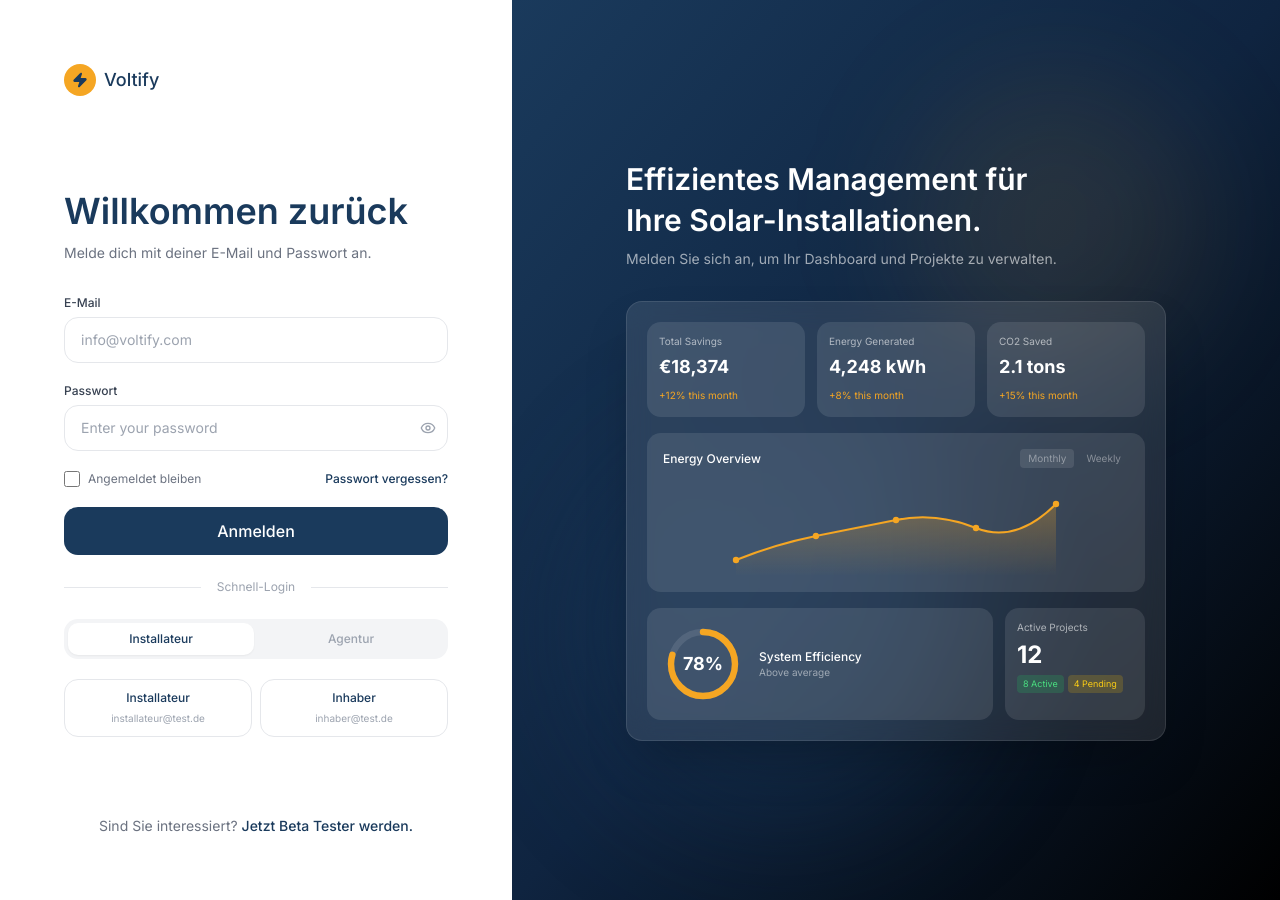
Test: Login › zeigt einen Fehler bei fehlgeschlagenem Login
The image size is (1280, 900).
Type "test@test.de" into the field with placeholder "info@voltify.com" at [256, 340], box [64,317,448,363]
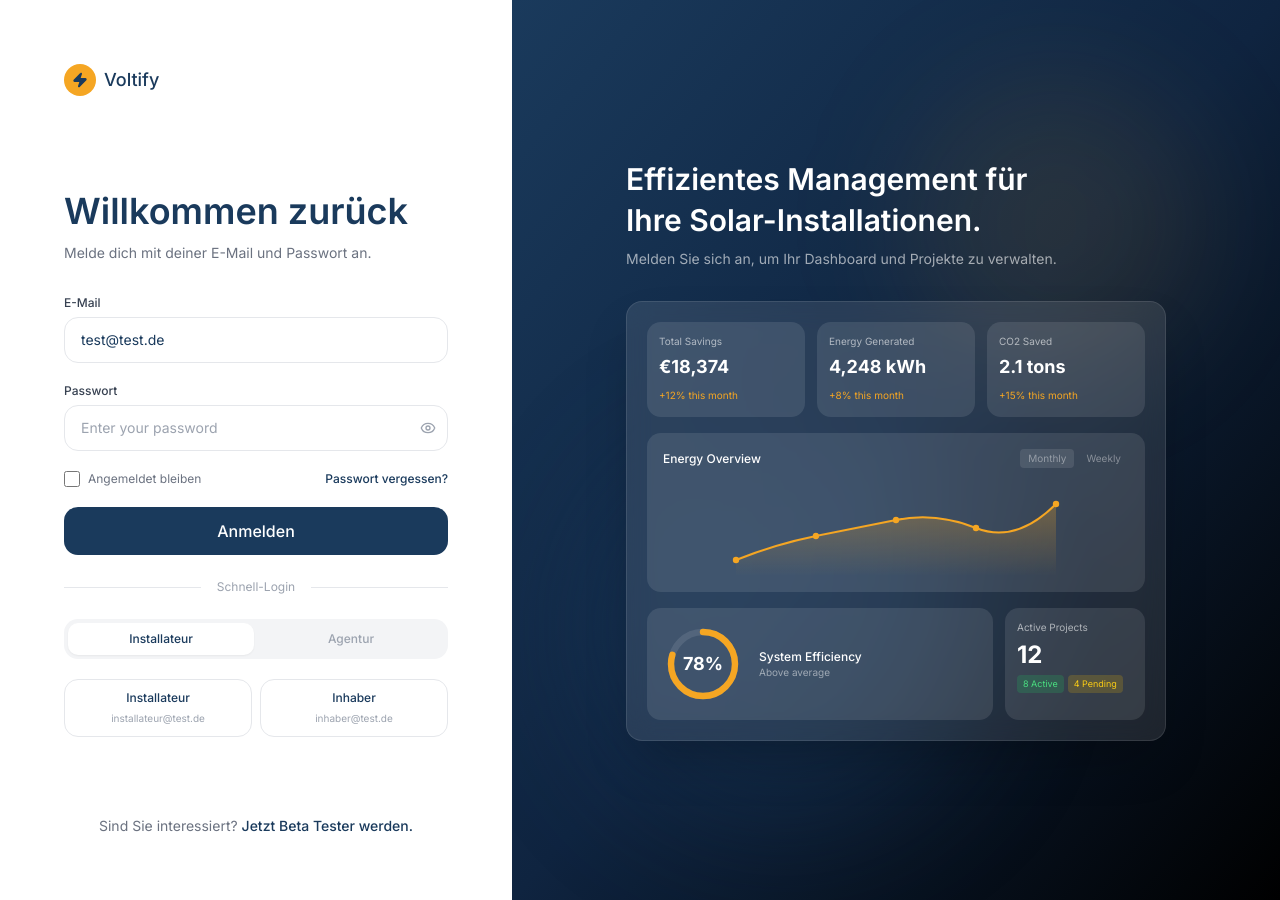
Type "falsch" into the password field with placeholder "Enter your password" at [256, 428], box [64,405,448,451]
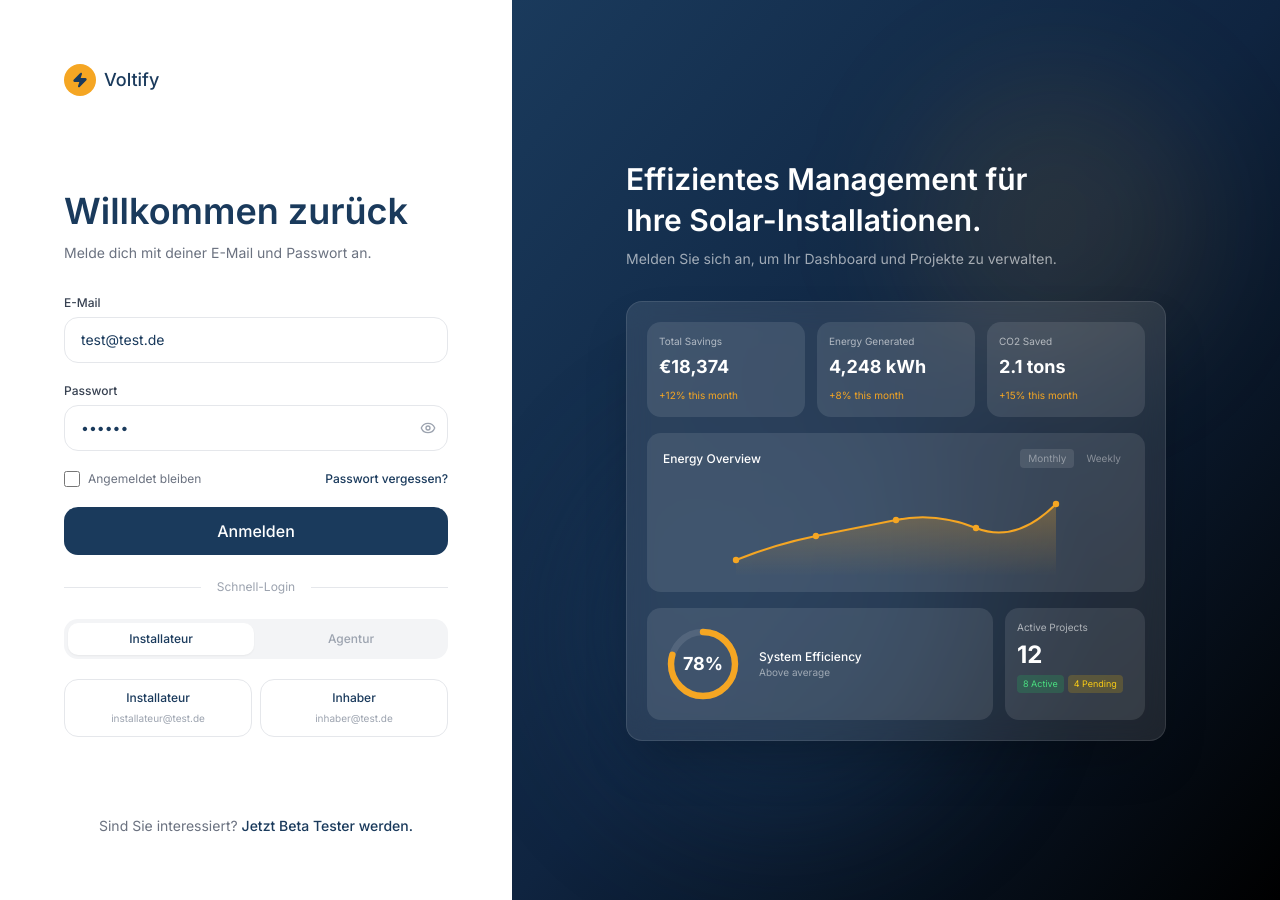
Click the button "Anmelden" at [256, 531], box [64,507,448,555]
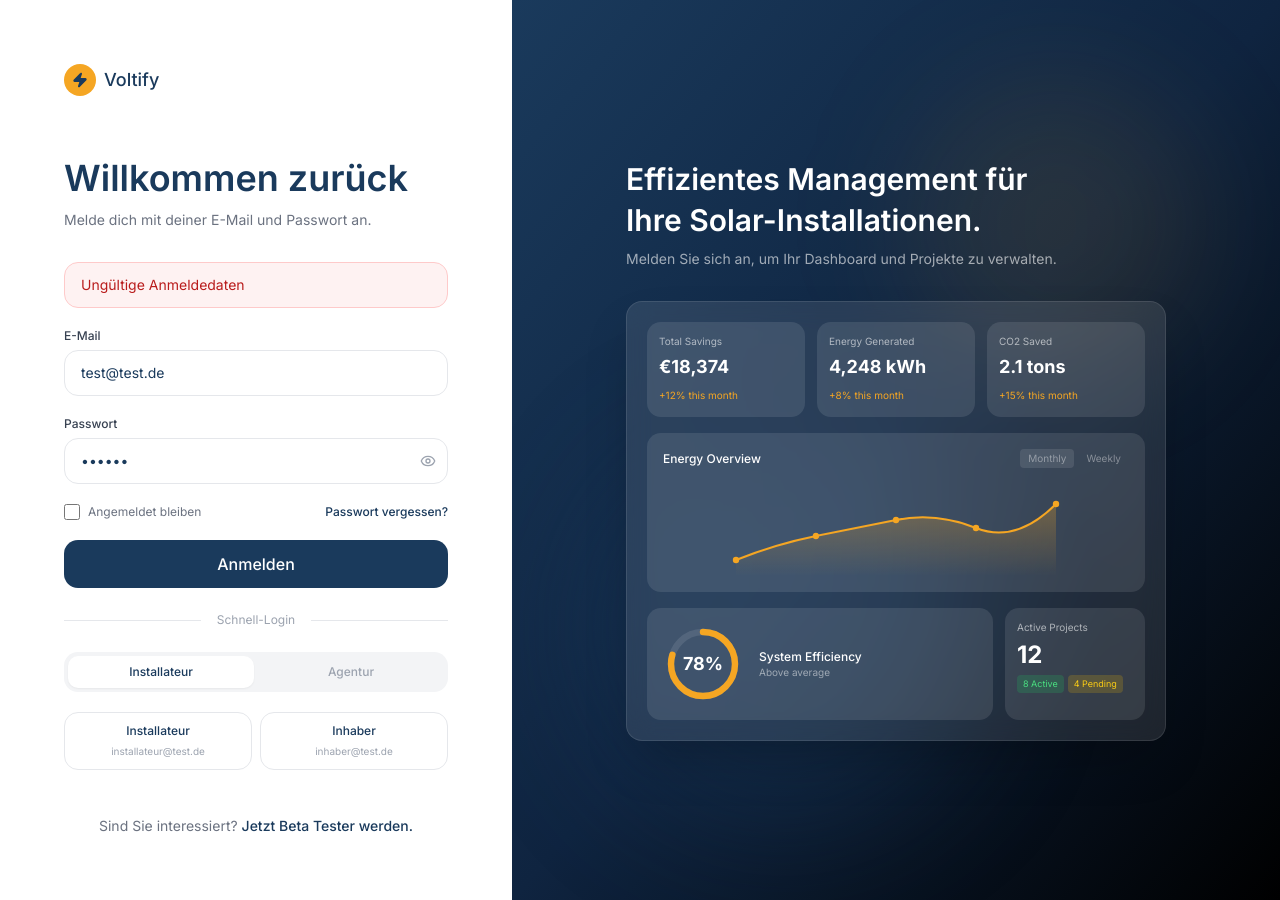
Now the text "Ungültige Anmeldedaten" is shown, box [64,262,448,308]
